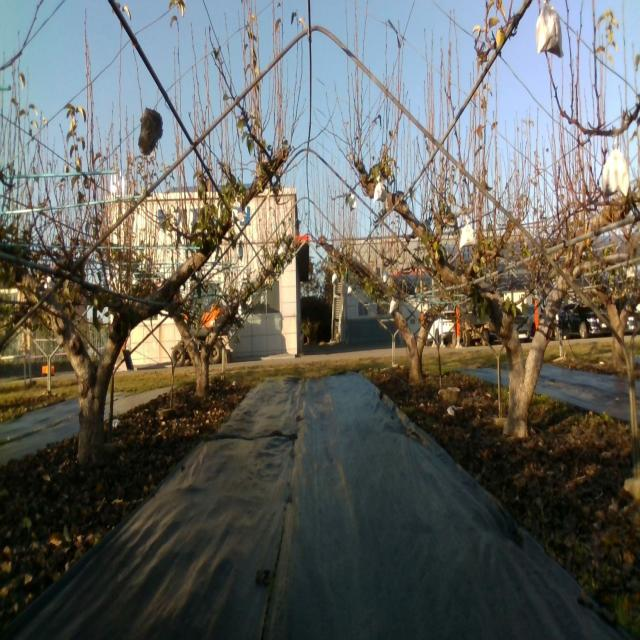pearbags: (536, 0, 564, 57), (602, 144, 630, 198), (458, 220, 476, 251), (232, 198, 246, 225), (374, 175, 386, 202)
